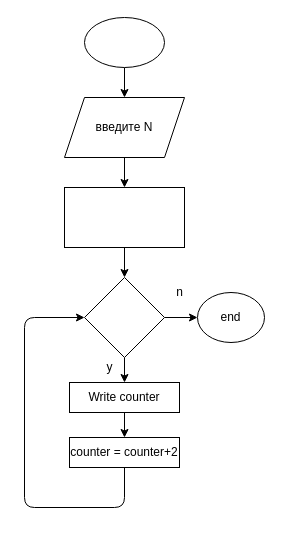
Image size: 282x533. Some labels were removed from this diagram. The box of each missing label's shape, as (x1, y1, x2, y2) in pixels:
counter<=N: (84, 276, 164, 358)
N, counter: (64, 186, 184, 248)
